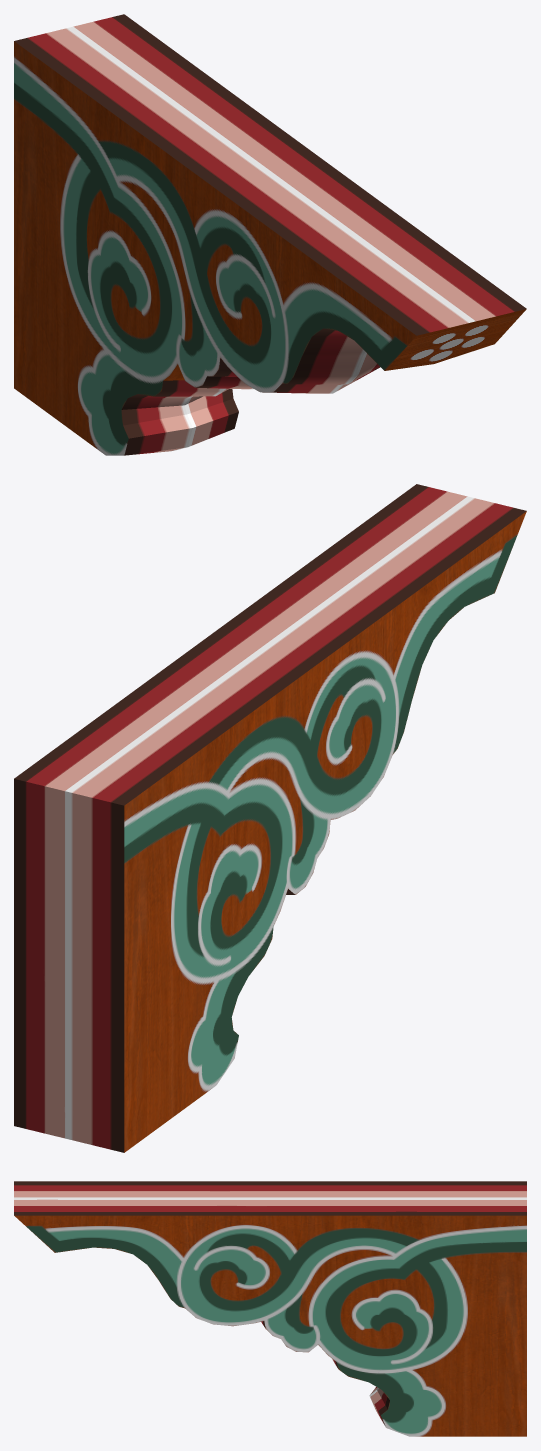
File: SM_Boaji06B.fbx
3 renders of one model, top to bottom at view 1: azimuth 30°, elevation 25°; view 2: azimuth 150°, elevation 25°; view 3: azimuth 270°, elevation 25°, orthographic. The views are drawn at different scales.
Parts seen in each view (by area): view 1: SM_Boaji06B; view 2: SM_Boaji06B; view 3: SM_Boaji06B.
Boxes of the visible parts, left/top/right/bottom form: SM_Boaji06B: left=14, top=14, right=526, bottom=455; SM_Boaji06B: left=14, top=484, right=526, bottom=1152; SM_Boaji06B: left=14, top=1181, right=526, bottom=1436.
Size of the model in its own units: 6.75 by 42.65 by 20.29.
Materials: 1 (1 with a texture image).
